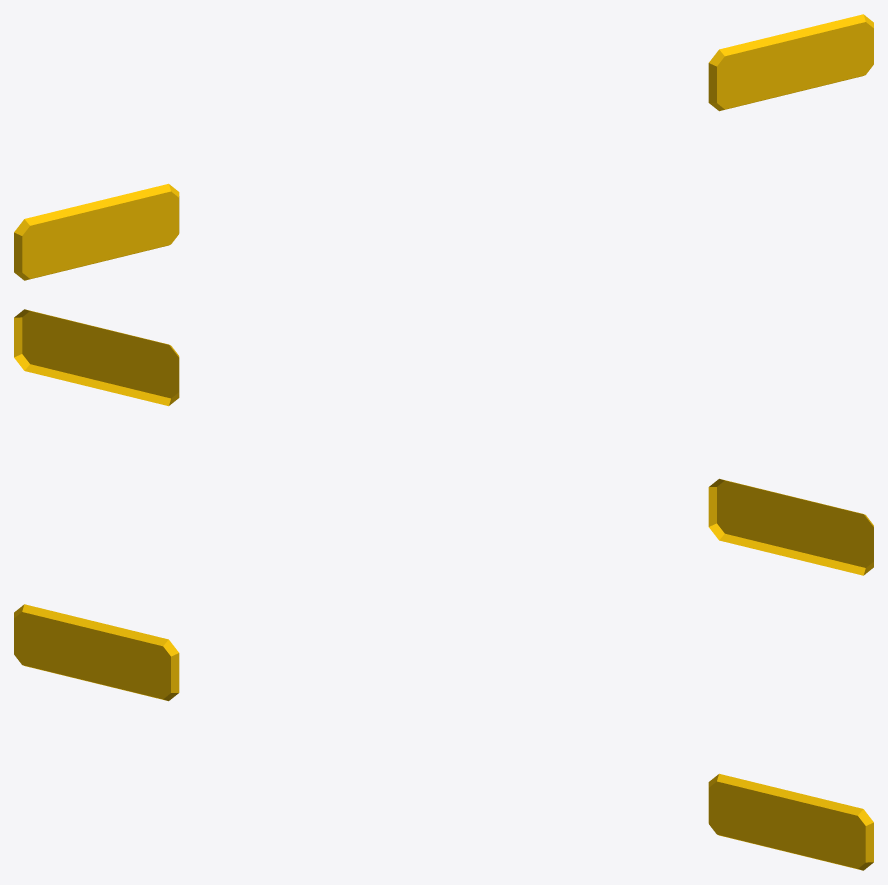
The model's file is Wall_type_C_055_001.glb.
3 views of the same model, one above another, from view 1: azimuth 30°, elevation 25°; view 2: azimuth 150°, elevation 25°; view 3: azimuth 330°, elevation 25° (orthographic).
Visible parts, largest first — view 1: Wall_type_C_055.001; view 2: Wall_type_C_055.001; view 3: Wall_type_C_055.001.
Part boxes in pixels (x1=…): Wall_type_C_055.001: x1=14, y1=14, x2=873, y2=280; Wall_type_C_055.001: x1=14, y1=309, x2=873, y2=575; Wall_type_C_055.001: x1=14, y1=604, x2=873, y2=870.
Bounding box in the file's own units: 2.48 × 0.17 × 0.02.
Materials: 1 (1 with a texture image).
